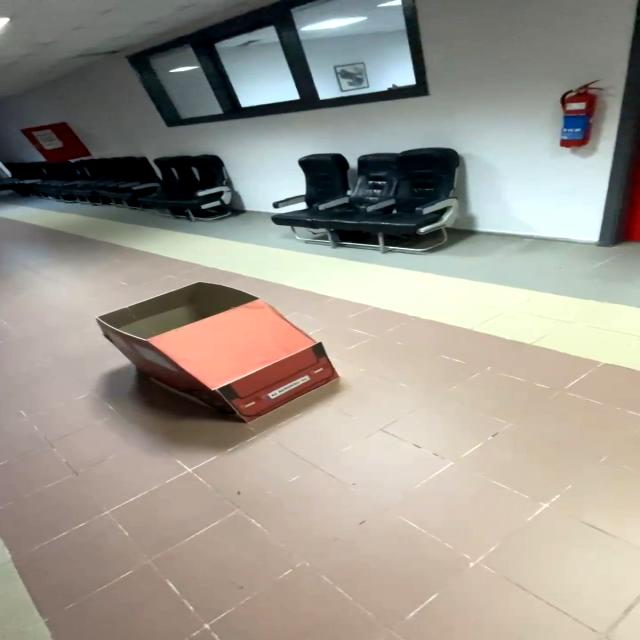red_car: (46, 267, 429, 447)
